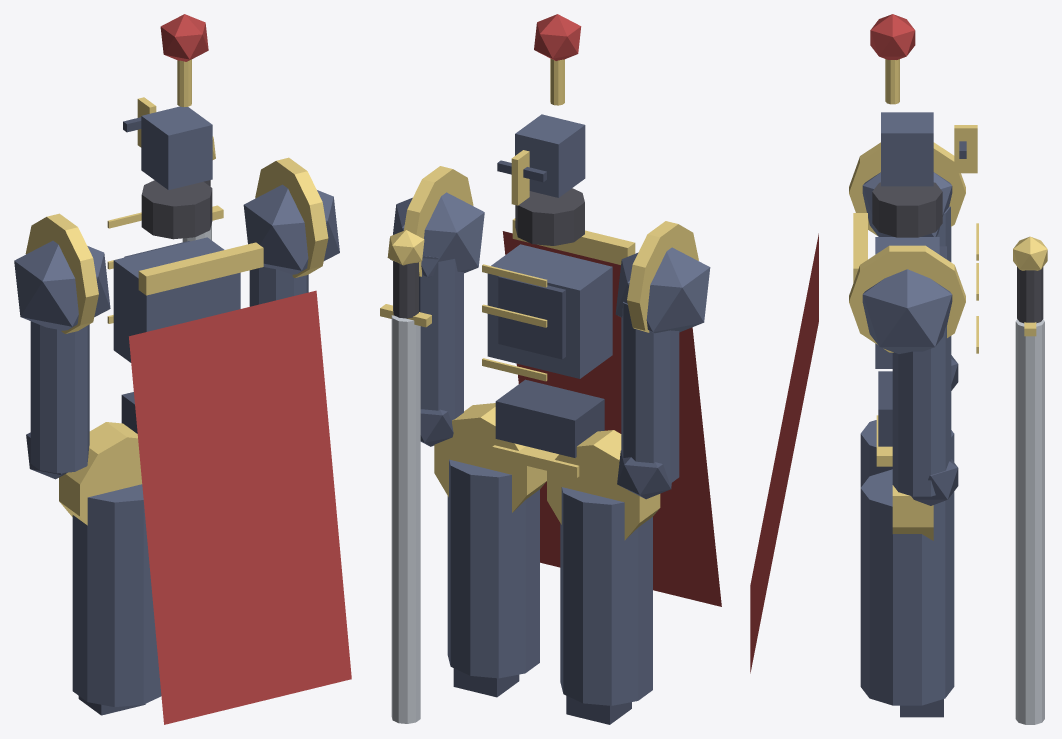
Rendered from chevalier.glb.
3 views of the same model, side by side, from view 1: azimuth 30°, elevation 25°; view 2: azimuth 150°, elevation 25°; view 3: azimuth 270°, elevation 25° (orthographic). The views are drawn at different scales.
Parts seen in each view (by area): view 1: Plane, Cylinder, Cylinder.006, Cube.004, Icosphere, Cube.009, Icosphere.001, Cylinder.001, Cylinder.008, Cube.012, Cylinder.004, Cylinder.005 (+3 smaller); view 2: Cylinder, Cylinder.002, Plane, Cylinder.010, Cube.004, Cylinder.006, Cylinder.007, Cube.002, Icosphere, Cylinder.001, Cylinder.003, Cube.005 (+19 smaller); view 3: Cylinder.002, Cylinder.010, Cylinder.007, Plane, Icosphere.001, Cylinder.005, Cube.009, Cylinder.008, Cylinder.004, Icosphere.004, Cylinder.003, Cylinder.011 (+11 smaller).
Boxes of the visible parts, bbox=[...] form: Plane: bbox=[129, 290, 351, 724]; Cylinder: bbox=[72, 484, 161, 707]; Cylinder.006: bbox=[30, 321, 89, 473]; Cube.004: bbox=[113, 237, 240, 362]; Icosphere: bbox=[14, 240, 110, 330]; Cube.009: bbox=[141, 106, 212, 190]; Icosphere.001: bbox=[243, 184, 339, 274]; Cylinder.001: bbox=[59, 422, 142, 525]; Cylinder.008: bbox=[141, 180, 212, 239]; Cube.012: bbox=[138, 242, 263, 295]; Cylinder.004: bbox=[25, 213, 98, 333]; Cylinder.005: bbox=[255, 157, 328, 277]; Cylinder: bbox=[560, 487, 652, 705]; Cylinder.002: bbox=[447, 459, 539, 678]; Plane: bbox=[502, 231, 721, 606]; Cylinder.010: bbox=[391, 315, 420, 723]; Cube.004: bbox=[487, 244, 612, 378]; Cylinder.006: bbox=[621, 302, 679, 483]; Cylinder.007: bbox=[419, 256, 463, 422]; Cube.002: bbox=[495, 379, 604, 457]; Icosphere: bbox=[615, 247, 710, 333]; Cylinder.001: bbox=[547, 430, 660, 540]; Cylinder.003: bbox=[434, 403, 546, 512]; Cube.005: bbox=[498, 276, 565, 359]; Cylinder.002: bbox=[860, 469, 954, 705]; Cylinder.010: bbox=[1015, 319, 1044, 724]; Cylinder.007: bbox=[892, 326, 951, 496]; Plane: bbox=[750, 233, 818, 673]; Icosphere.001: bbox=[862, 269, 952, 353]; Cylinder.005: bbox=[849, 245, 965, 352]; Cube.009: bbox=[881, 112, 933, 186]; Cylinder.008: bbox=[872, 182, 942, 237]; Cylinder.004: bbox=[849, 142, 965, 235]; Icosphere.004: bbox=[870, 14, 915, 59]; Cylinder.003: bbox=[892, 485, 933, 540]; Cylinder.011: bbox=[1017, 267, 1043, 323].
Bounding box in the file's own units: 1.2 × 2.51 × 1.02.
